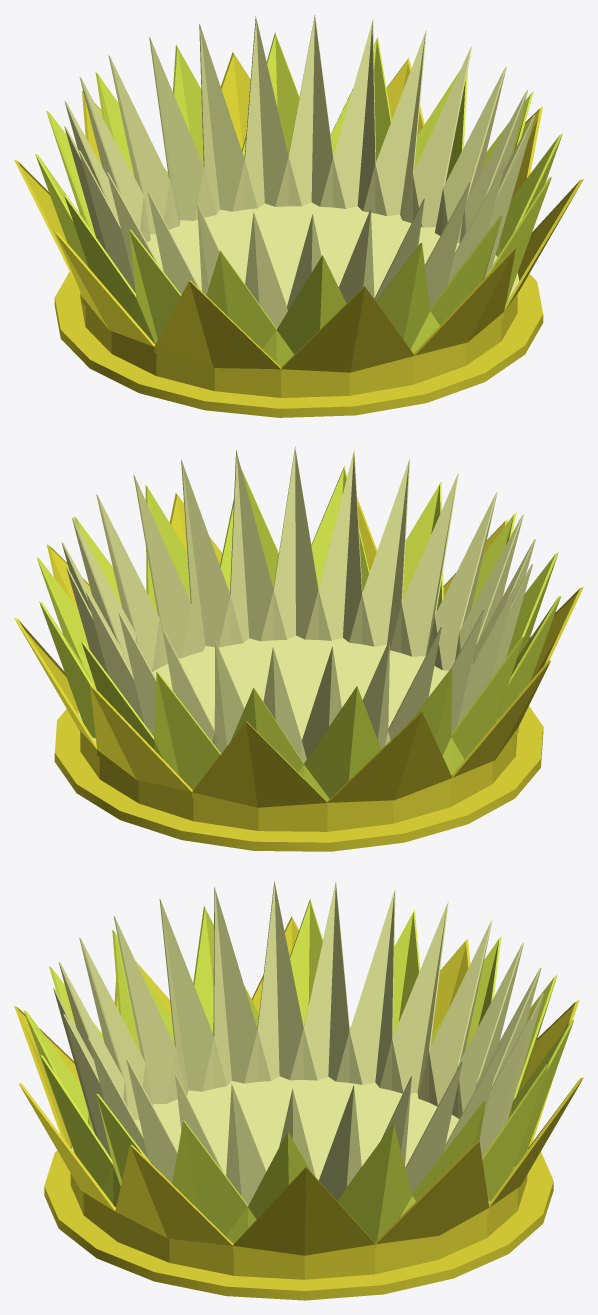
Rendered from portal_000007.obj.
3 views of the same model, one above another, from view 1: azimuth 30°, elevation 25°; view 2: azimuth 150°, elevation 25°; view 3: azimuth 270°, elevation 25° (orthographic). The views are drawn at different scales.
Parts seen in each view (by area): view 1: Cylinder.001, pCylinder1, Cylinder; view 2: Cylinder.001, pCylinder1, Cylinder; view 3: Cylinder.001, pCylinder1, Cylinder.
Part boxes in pixels (box(x1,y1,x2,y2)): Cylinder.001: box(64, 15, 535, 328); pCylinder1: box(14, 52, 583, 417); Cylinder: box(35, 32, 562, 367); Cylinder.001: box(61, 446, 535, 762); pCylinder1: box(14, 493, 583, 851); Cylinder: box(37, 466, 561, 801); Cylinder.001: box(53, 881, 543, 1205); pCylinder1: box(14, 916, 583, 1300); Cylinder: box(23, 899, 573, 1243).
Bounding box in the file's own units: 7.45 × 2.9 × 7.14.
3 materials, 3 textured.
